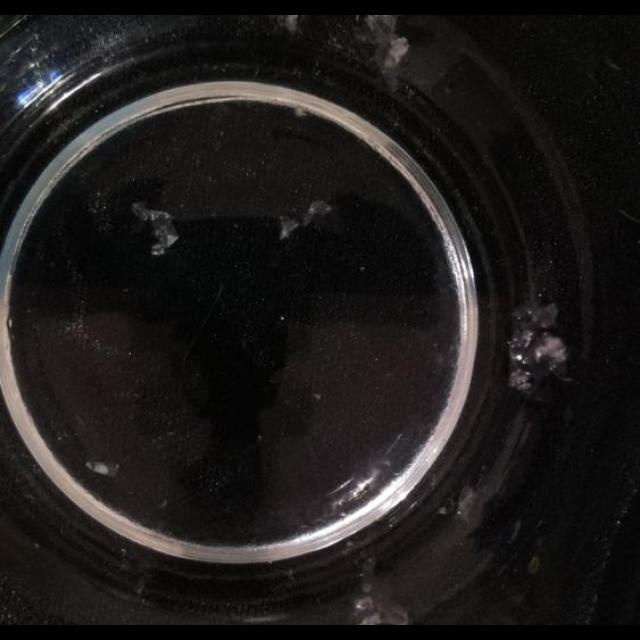Fibre: (506, 302, 568, 393), (356, 15, 410, 77), (132, 200, 180, 254), (278, 200, 332, 240), (353, 588, 407, 622), (454, 486, 484, 526), (86, 461, 120, 477), (278, 217, 300, 240), (606, 56, 622, 72), (293, 106, 307, 118)
microbeads: (133, 576, 147, 596), (154, 498, 168, 510), (312, 392, 321, 402), (255, 434, 262, 444)
